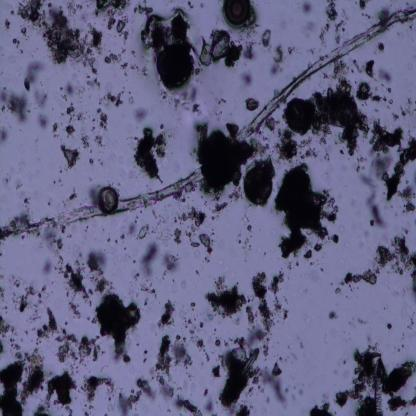Background material: (274, 164, 341, 262), (20, 3, 102, 66), (314, 80, 370, 154), (0, 349, 45, 416), (138, 7, 190, 55), (338, 346, 374, 414), (375, 233, 416, 287), (218, 352, 254, 412), (385, 135, 416, 204), (133, 123, 168, 183), (358, 170, 391, 231), (205, 275, 248, 320), (247, 272, 274, 343), (53, 259, 92, 307), (198, 30, 242, 71), (54, 328, 102, 365), (117, 374, 153, 412), (0, 80, 30, 124), (46, 370, 79, 407), (127, 270, 157, 307), (81, 372, 114, 405), (372, 120, 404, 153), (170, 86, 202, 118), (36, 304, 59, 344), (262, 366, 286, 404), (144, 207, 169, 243), (270, 270, 288, 320), (340, 266, 381, 287), (153, 333, 173, 374), (160, 248, 184, 282), (171, 334, 193, 371), (235, 27, 257, 64), (390, 361, 415, 392), (334, 56, 363, 82), (21, 58, 47, 86), (0, 318, 21, 352), (43, 229, 65, 261), (140, 241, 158, 280), (90, 250, 107, 291), (278, 132, 301, 162), (155, 298, 175, 329), (368, 152, 393, 176), (174, 394, 204, 414), (112, 337, 133, 365), (82, 66, 103, 94), (178, 206, 205, 227), (85, 22, 103, 53), (400, 181, 416, 215), (208, 91, 228, 118), (251, 141, 279, 160), (58, 145, 80, 168), (222, 332, 247, 352), (108, 17, 128, 42), (63, 0, 88, 19), (16, 287, 34, 313), (190, 235, 214, 254), (398, 98, 416, 121), (32, 88, 50, 111), (333, 16, 348, 43), (157, 377, 176, 398), (7, 272, 26, 292), (132, 0, 152, 19), (305, 134, 319, 160), (307, 402, 336, 414), (68, 296, 83, 319), (356, 80, 372, 101), (23, 308, 42, 325), (248, 375, 264, 395), (106, 88, 122, 107), (259, 26, 273, 47), (364, 58, 378, 79), (236, 399, 253, 416), (33, 285, 48, 304), (80, 132, 94, 152), (300, 20, 318, 35), (352, 154, 366, 173), (387, 398, 416, 407), (259, 341, 272, 361), (326, 2, 339, 22), (63, 78, 76, 98), (0, 283, 8, 315), (135, 224, 151, 240), (193, 334, 209, 350), (378, 66, 392, 84), (205, 397, 218, 416), (407, 305, 416, 332), (136, 106, 148, 126), (33, 112, 48, 128), (270, 360, 283, 378), (89, 182, 99, 205), (43, 254, 53, 276), (0, 126, 11, 146), (273, 45, 285, 63), (104, 52, 122, 64), (140, 62, 152, 80), (210, 364, 222, 381), (51, 119, 61, 139), (245, 97, 259, 111), (410, 267, 416, 299), (213, 200, 229, 212), (173, 226, 183, 245), (119, 57, 130, 74), (67, 185, 78, 202), (10, 289, 18, 312), (270, 63, 284, 76), (1, 16, 14, 30), (284, 42, 297, 56), (302, 247, 314, 262), (96, 134, 108, 149), (20, 78, 32, 92), (51, 175, 65, 187), (370, 90, 381, 104), (267, 118, 278, 132), (285, 258, 299, 269), (243, 238, 254, 252), (24, 194, 31, 216), (100, 111, 108, 130), (12, 36, 22, 50), (356, 317, 371, 326), (86, 314, 97, 326), (302, 0, 313, 12), (66, 104, 75, 118), (245, 72, 254, 86), (330, 231, 340, 243), (358, 10, 372, 18), (375, 42, 385, 53), (384, 94, 394, 105), (176, 280, 187, 290), (130, 64, 139, 76), (128, 221, 135, 236), (242, 212, 250, 225), (77, 109, 85, 122), (184, 370, 194, 380), (160, 90, 170, 100), (66, 126, 75, 137), (107, 9, 118, 18), (94, 6, 102, 18), (88, 156, 96, 168), (13, 182, 23, 191), (63, 405, 71, 416), (318, 29, 325, 41), (204, 351, 211, 363), (3, 175, 9, 189), (129, 94, 135, 108), (186, 1, 195, 10), (329, 312, 337, 322), (360, 0, 368, 10), (22, 28, 30, 38), (98, 96, 106, 106), (324, 20, 330, 33), (384, 84, 393, 92), (188, 327, 197, 335), (190, 300, 196, 311), (202, 386, 208, 397), (385, 322, 393, 330), (184, 318, 191, 327), (325, 152, 332, 161), (18, 48, 27, 55), (198, 320, 205, 329), (298, 341, 304, 351), (46, 0, 52, 10), (204, 254, 210, 263), (334, 287, 341, 294), (84, 410, 92, 416), (195, 268, 201, 276), (290, 393, 296, 401), (236, 236, 242, 244), (393, 112, 399, 120), (90, 124, 96, 132), (94, 107, 100, 115), (60, 92, 66, 100), (102, 347, 107, 356), (284, 386, 290, 393), (319, 266, 325, 273), (133, 50, 138, 58), (403, 228, 409, 234), (62, 321, 68, 327), (58, 85, 64, 91), (60, 110, 66, 116), (89, 403, 94, 410), (143, 357, 148, 364), (124, 245, 129, 252), (87, 174, 92, 181), (143, 350, 149, 355), (279, 356, 284, 362), (298, 389, 302, 396), (248, 226, 252, 233), (106, 237, 111, 242), (38, 340, 43, 345), (24, 330, 28, 336), (9, 10, 15, 14), (121, 233, 124, 241), (214, 327, 218, 332), (244, 259, 248, 264), (114, 240, 118, 244), (342, 150, 345, 155), (136, 342, 139, 347), (398, 347, 401, 352), (112, 408, 115, 412), (104, 414, 109, 416), (135, 220, 138, 223), (134, 260, 136, 264)
Cotton: (0, 6, 416, 238)
Diatom: (156, 40, 194, 88), (202, 137, 236, 186), (98, 294, 126, 336), (244, 168, 274, 205), (285, 96, 314, 134), (374, 356, 390, 414), (223, 0, 251, 27), (99, 185, 120, 215), (125, 301, 141, 329), (242, 348, 260, 372), (233, 168, 242, 180), (214, 338, 222, 348)
